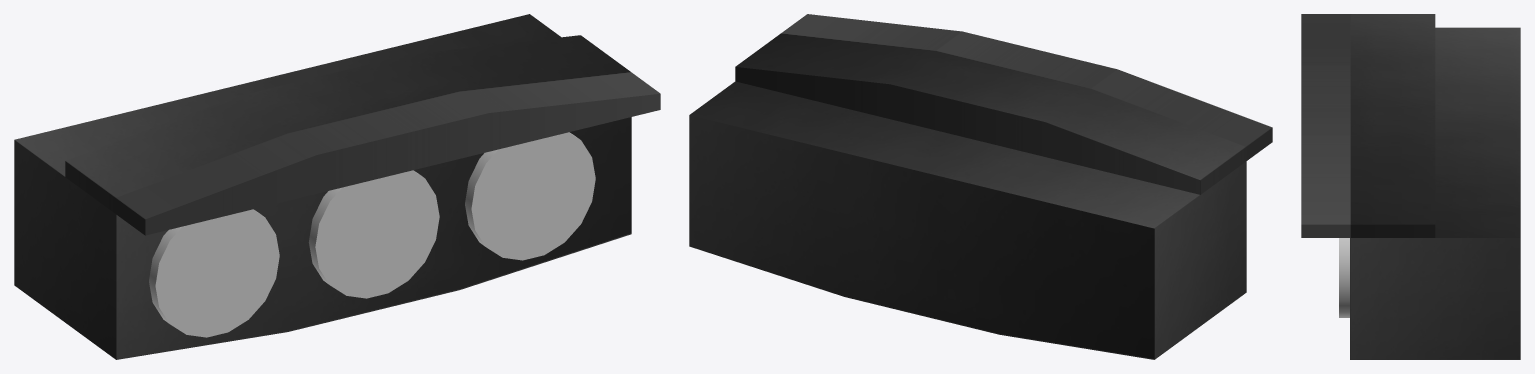
The model's file is SignalHontai.fbx.
3 renders of one model, left to right at view 1: azimuth 30°, elevation 25°; view 2: azimuth 150°, elevation 25°; view 3: azimuth 270°, elevation 25°, orthographic. The views are drawn at different scales.
Parts seen in each view (by area): view 1: Box001, Cylinder003, Cylinder002, Cylinder001; view 2: Box001; view 3: Box001, Cylinder003.
Boxes of the visible parts, box(x1,y1,x2,y2) form: Box001: box(14, 14, 660, 359); Cylinder003: box(465, 132, 595, 260); Cylinder002: box(308, 170, 439, 298); Cylinder001: box(149, 209, 279, 337); Box001: box(689, 14, 1272, 359); Box001: box(1301, 14, 1520, 359); Cylinder003: box(1339, 238, 1349, 317).
Size of the model in its own units: 77.9 by 34.28 by 28.62.
